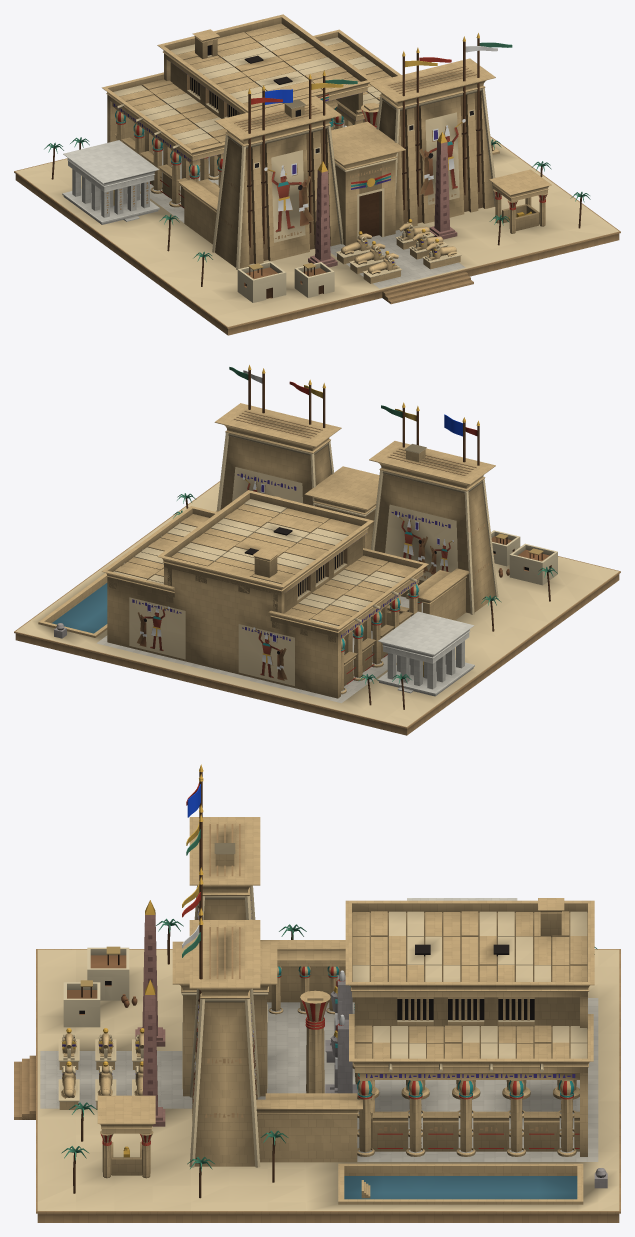
File: lm_karnak.glb
3 views of the same model, one above another, from view 1: azimuth 30°, elevation 25°; view 2: azimuth 150°, elevation 25°; view 3: azimuth 270°, elevation 25° (orthographic). The views are drawn at different scales.
Parts seen in each view (by area): view 1: lm_karnak; view 2: lm_karnak; view 3: lm_karnak.
Part boxes in pixels (box(x1,y1,x2,y2)): lm_karnak: box(14, 14, 620, 335); lm_karnak: box(14, 365, 620, 735); lm_karnak: box(14, 764, 620, 1222).
Size of the model in its own units: 2.37 by 1.06 by 2.32.
1 material, 1 textured.
